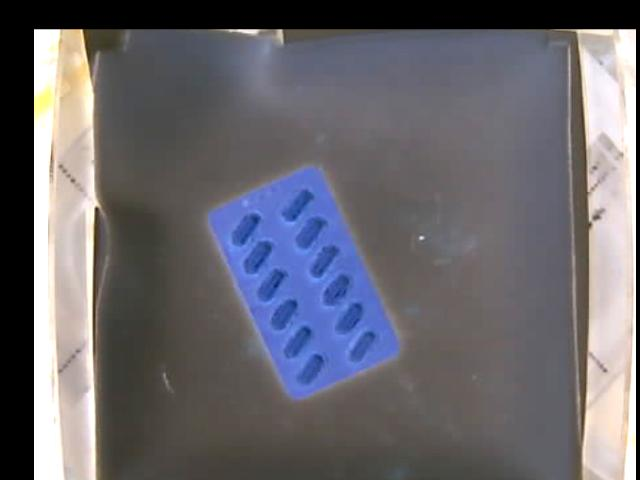Medicine: (209, 165, 397, 400)
